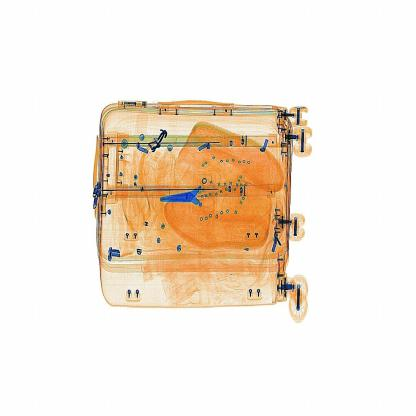gun: (158, 168, 222, 225)
